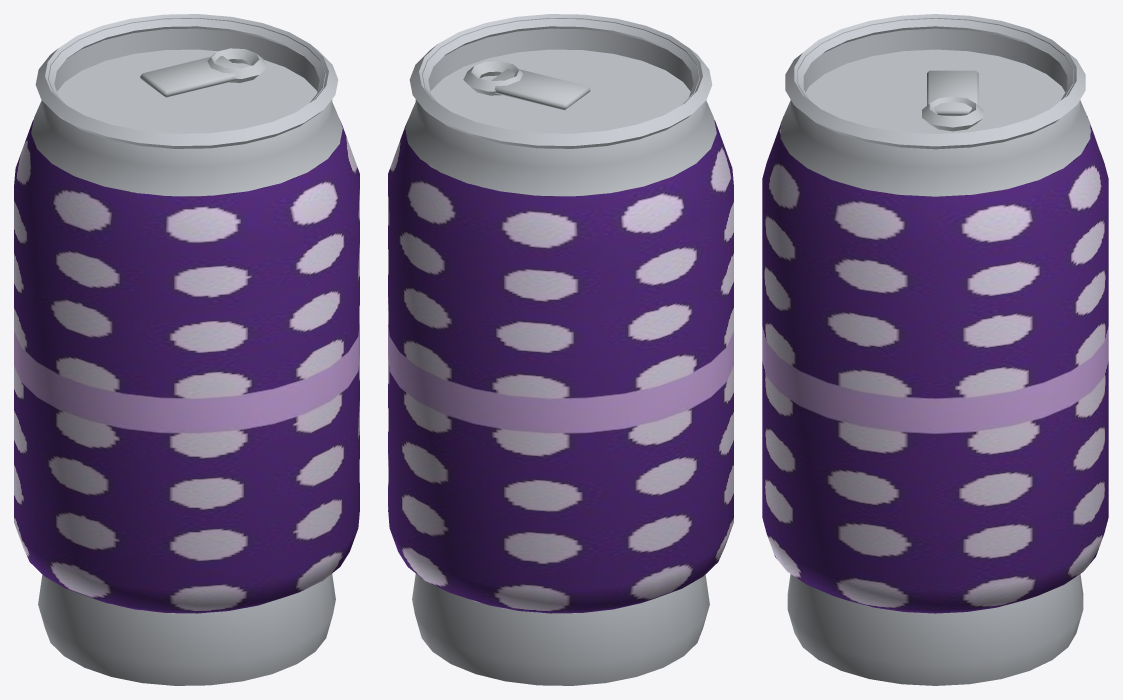
The model's file is can_grape_pop_mini.glb.
The picture shows the model from 3 angles, left to right: view 1: azimuth 30°, elevation 25°; view 2: azimuth 150°, elevation 25°; view 3: azimuth 270°, elevation 25°; orthographic projection.
Parts seen in each view (by area): view 1: can_grape_pop_mini; view 2: can_grape_pop_mini; view 3: can_grape_pop_mini.
Boxes of the visible parts, bbox=[...] form: can_grape_pop_mini: bbox=[14, 14, 359, 685]; can_grape_pop_mini: bbox=[388, 14, 733, 685]; can_grape_pop_mini: bbox=[762, 14, 1108, 685].
Bounding box in the file's own units: 0.052 × 0.0914 × 0.052.
4 materials, 1 textured.
